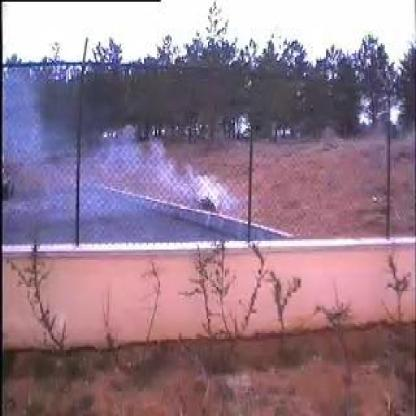-: (89, 125, 232, 239)
